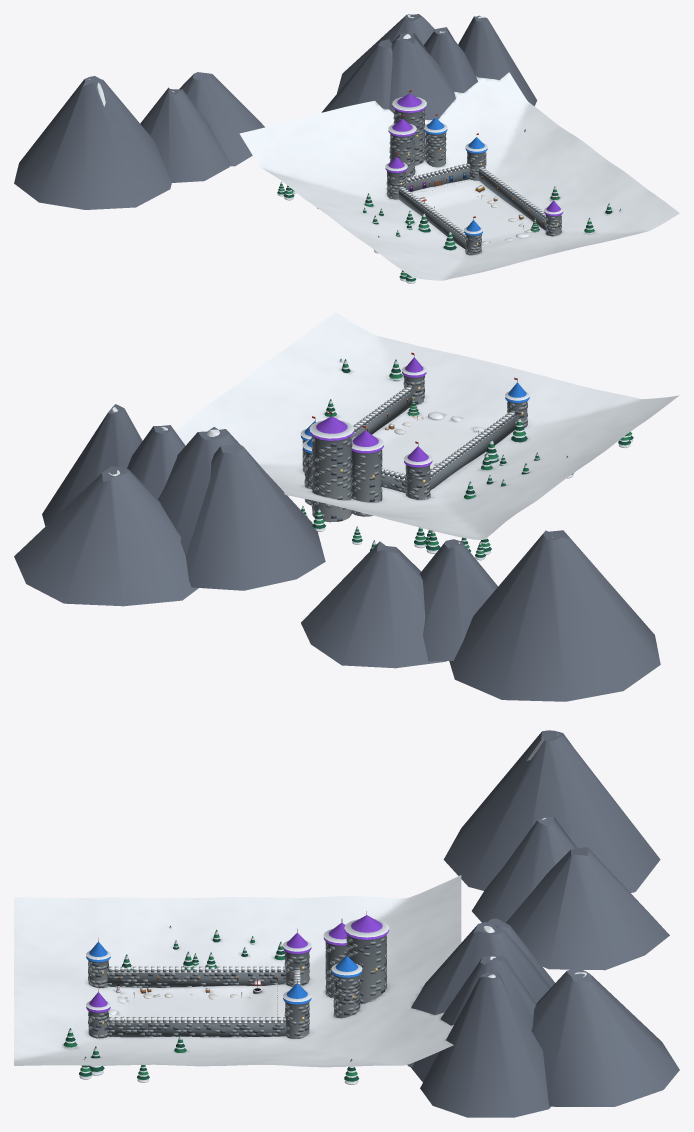
File: map_castle.glb
3 renders of one model, top to bottom at view 1: azimuth 30°, elevation 25°; view 2: azimuth 150°, elevation 25°; view 3: azimuth 270°, elevation 25°, orthographic. The views are drawn at different scales.
Visible parts, largest first — view 1: env; view 2: env; view 3: env.
Boxes of the visible parts, x1=… form: env: x1=14, y1=14, x2=679, y2=283; env: x1=14, y1=312, x2=679, y2=701; env: x1=14, y1=730, x2=679, y2=1117.
Bounding box in the file's own units: 144 × 28.99 × 134.
2 materials, 2 textured.
